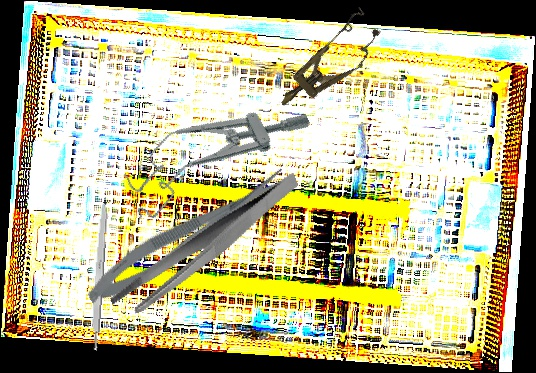Dressing Forceps: (91, 172, 321, 321)
Micro Scissor: (78, 161, 297, 313)
Scalpel Handle: (88, 201, 109, 351)
Speculum: (111, 75, 318, 225), (266, 5, 390, 123)
